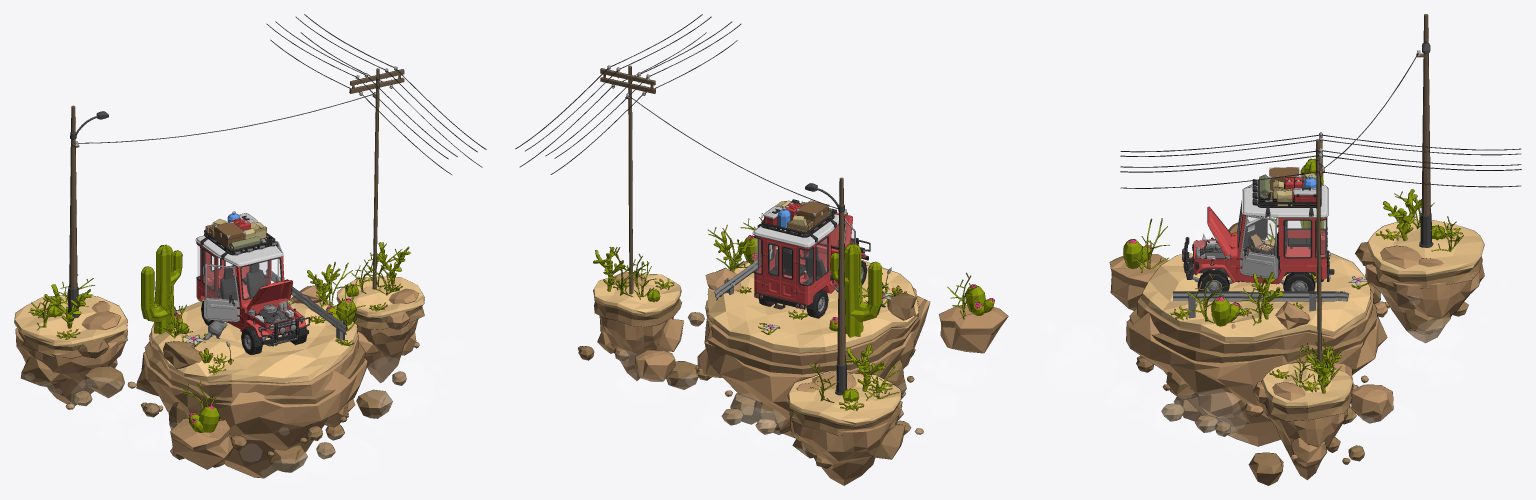
The model's file is road.gltf.
3 views of the same model, side by side, from view 1: azimuth 30°, elevation 25°; view 2: azimuth 150°, elevation 25°; view 3: azimuth 270°, elevation 25° (orthographic). The views are drawn at different scales.
Parts seen in each view (by area): view 1: terrain, body, terrain001outline, sky, glass, body001outline; view 2: terrain, body, terrain001outline, sky, glass, body001outline; view 3: terrain, body, terrain001outline, sky, body001outline, glass.
Part boxes in pixels (bbox=[...]): terrain: bbox=[14, 14, 486, 477]; body: bbox=[195, 211, 309, 354]; terrain001outline: bbox=[14, 14, 485, 478]; sky: bbox=[54, 300, 426, 479]; glass: bbox=[197, 245, 280, 299]; body001outline: bbox=[195, 211, 310, 354]; terrain: bbox=[516, 14, 1008, 485]; body: bbox=[752, 199, 870, 318]; terrain001outline: bbox=[518, 14, 1008, 483]; sky: bbox=[618, 296, 985, 441]; glass: bbox=[755, 223, 853, 284]; body001outline: bbox=[753, 199, 870, 318]; terrain: bbox=[1110, 14, 1521, 485]; body: bbox=[1182, 167, 1333, 291]; terrain001outline: bbox=[1109, 14, 1520, 485]; sky: bbox=[1046, 229, 1458, 439]; body001outline: bbox=[1182, 167, 1334, 291]; glass: bbox=[1239, 209, 1326, 256].
Size of the model in its own units: 13.24 by 12.19 by 13.79.
6 materials, 2 textured.
